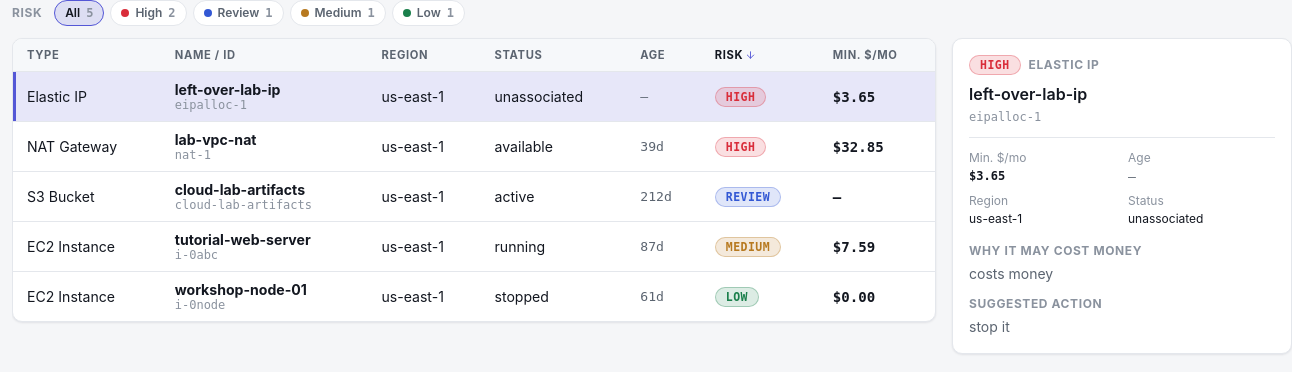
Scenario: ResourceTable sort and risk filter › re-homes the selection when the risk filter hides the selected row
The width and height of the screenshot is (1292, 372).
Click the 5th row at [474, 246], box left=13, top=222, right=935, bottom=272
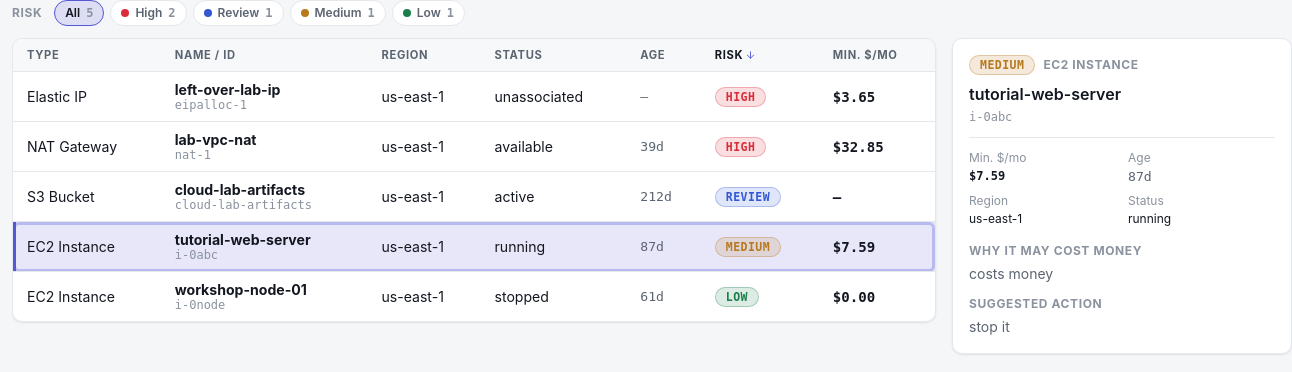
Click the radio button labelled "High 2" at [148, 13], box left=110, top=0, right=187, bottom=26
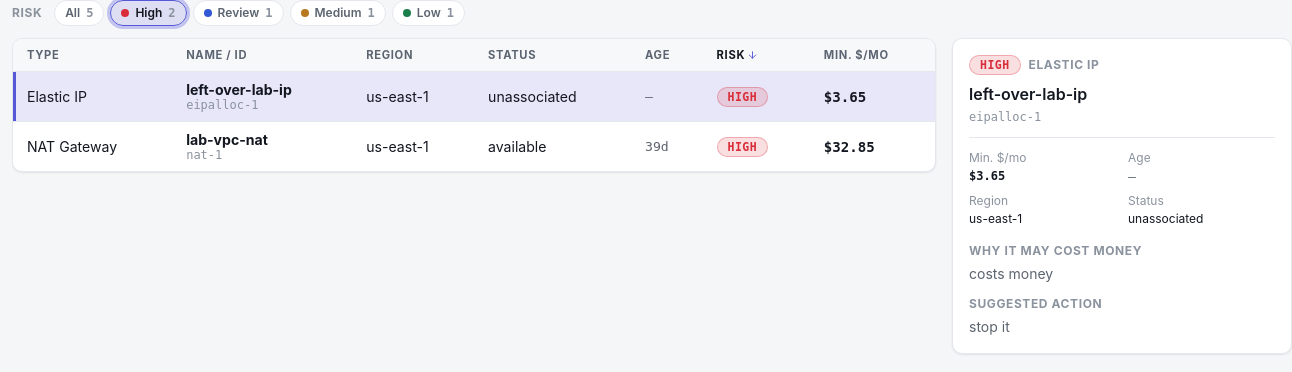
Expected: the heading "left-over-lab-ip" is shown, left=969, top=84, right=1087, bottom=104
